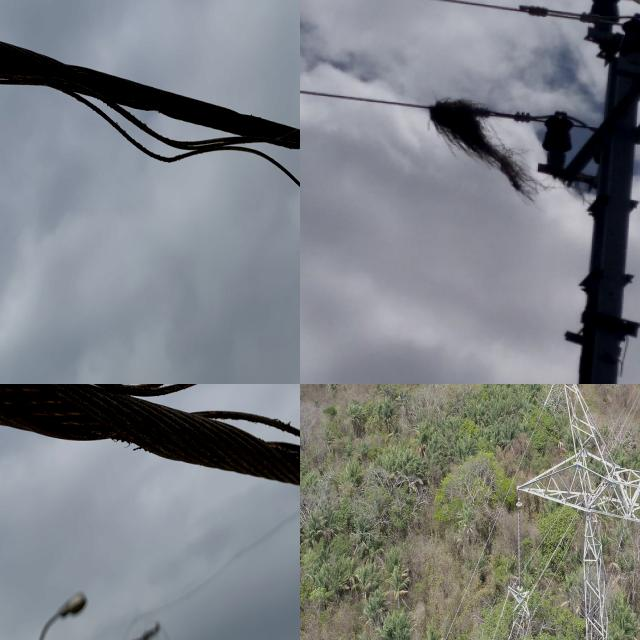杆塔: (510, 384, 640, 640)
植被遮挡: (420, 98, 558, 206)
正常绝缘子: (587, 0, 620, 35), (514, 496, 524, 594)
电缆破损: (0, 16, 300, 203), (0, 384, 300, 485)
